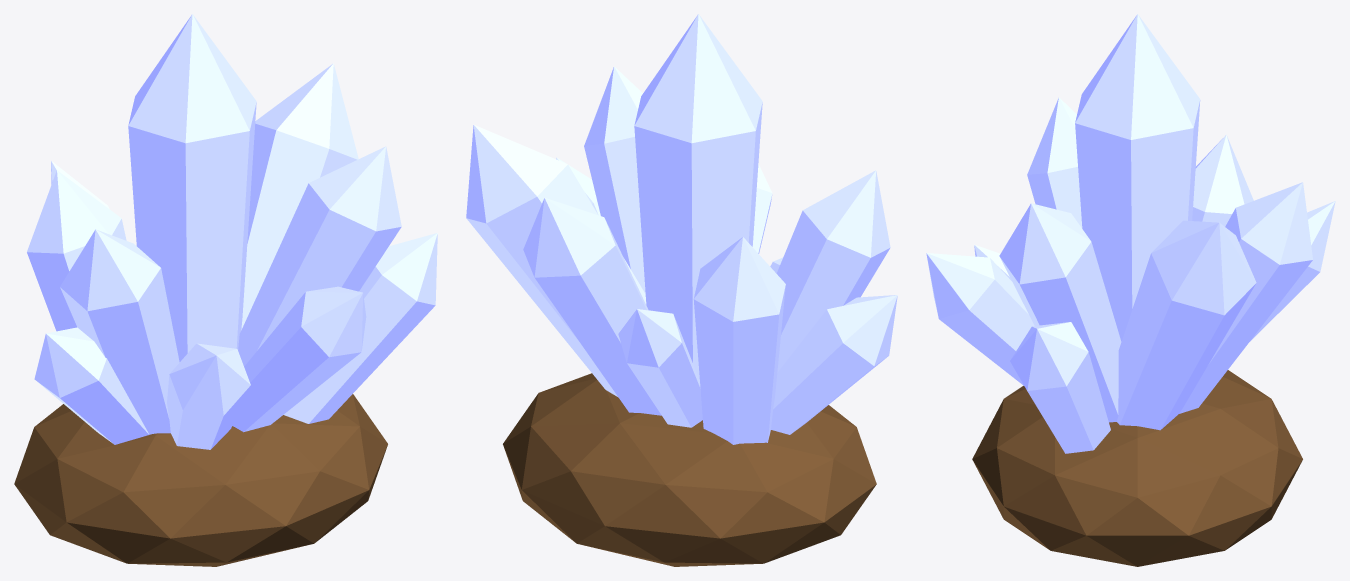
The model's file is crystall.fbx.
The picture shows the model from 3 angles, left to right: view 1: azimuth 30°, elevation 25°; view 2: azimuth 150°, elevation 25°; view 3: azimuth 270°, elevation 25°; orthographic projection. The views are drawn at different scales.
Visible parts, largest first — view 1: Icosphere; view 2: Icosphere; view 3: Icosphere.
Boxes of the visible parts, box(x1,y1,x2,y2) form: Icosphere: box(14, 14, 437, 566); Icosphere: box(466, 14, 897, 566); Icosphere: box(926, 14, 1335, 566).
Size of the model in its own units: 84.53 by 116 by 83.78.
